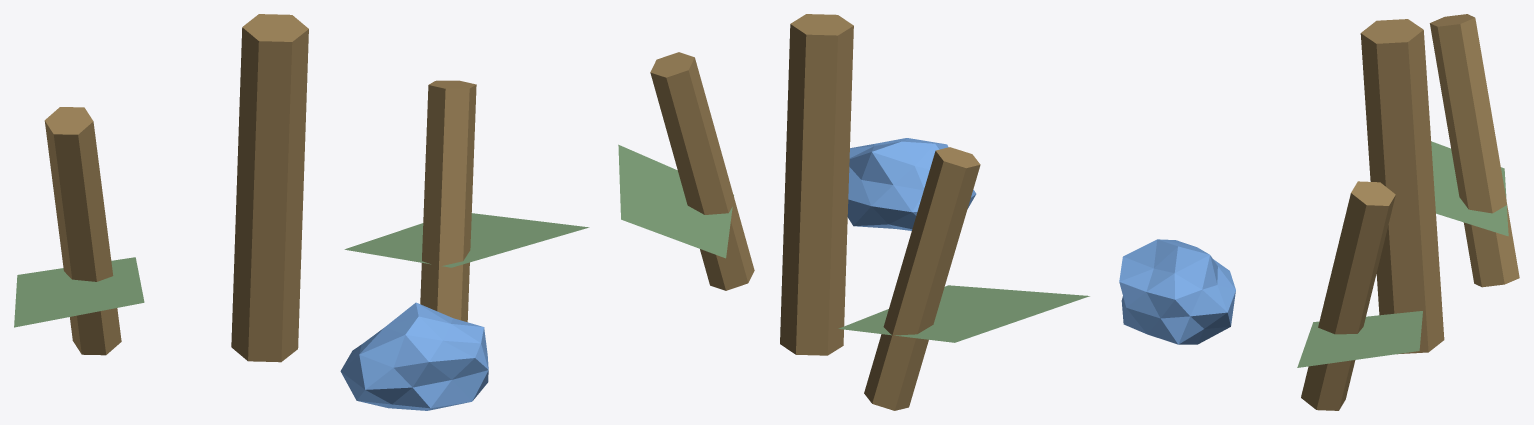
The model's file is t4_fiber_depleted.glb.
3 views of the same model, side by side, from view 1: azimuth 30°, elevation 25°; view 2: azimuth 150°, elevation 25°; view 3: azimuth 270°, elevation 25° (orthographic). The views are drawn at different scales.
Visible parts, largest first — view 1: CutCenterStem, DroppedCottonTuft, CutRightStem, CutLeftStem, WiltedLeafLeft, WiltedLeafRight; view 2: CutCenterStem, CutLeftStem, CutRightStem, DroppedCottonTuft, WiltedLeafRight, WiltedLeafLeft; view 3: CutCenterStem, CutLeftStem, DroppedCottonTuft, CutRightStem, WiltedLeafRight, WiltedLeafLeft.
Part boxes in pixels (box(x1,y1,x2,y2)): CutCenterStem: box(231, 14, 308, 362); DroppedCottonTuft: box(340, 302, 488, 410); CutRightStem: box(420, 80, 476, 322); CutLeftStem: box(44, 107, 121, 355); WiltedLeafLeft: box(14, 257, 144, 327); WiltedLeafRight: box(344, 213, 589, 267); CutCenterStem: box(780, 14, 853, 355); CutLeftStem: box(864, 147, 980, 410); CutRightStem: box(650, 52, 754, 290); DroppedCottonTuft: box(847, 138, 976, 230); WiltedLeafRight: box(618, 144, 733, 258); WiltedLeafLeft: box(838, 285, 1089, 342); CutCenterStem: box(1360, 19, 1444, 354); CutLeftStem: box(1429, 14, 1519, 287); DroppedCottonTuft: box(1119, 239, 1235, 344); CutRightStem: box(1301, 181, 1395, 410); WiltedLeafRight: box(1297, 311, 1422, 367); WiltedLeafLeft: box(1431, 141, 1508, 236).
Size of the model in its own units: 0.6481 by 0.3837 by 0.4436.
